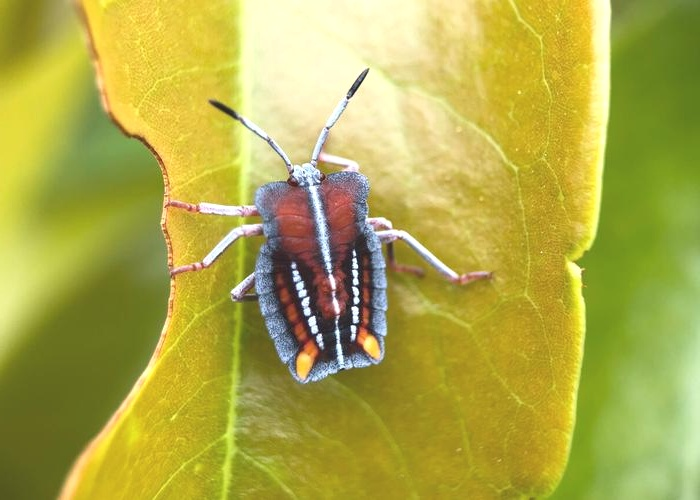Stink_Bug: (240, 122, 393, 385)
